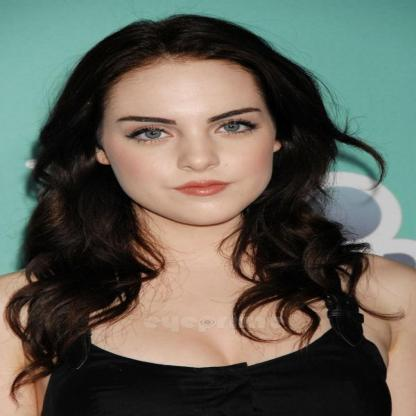long-hair: (10, 226, 372, 288)
